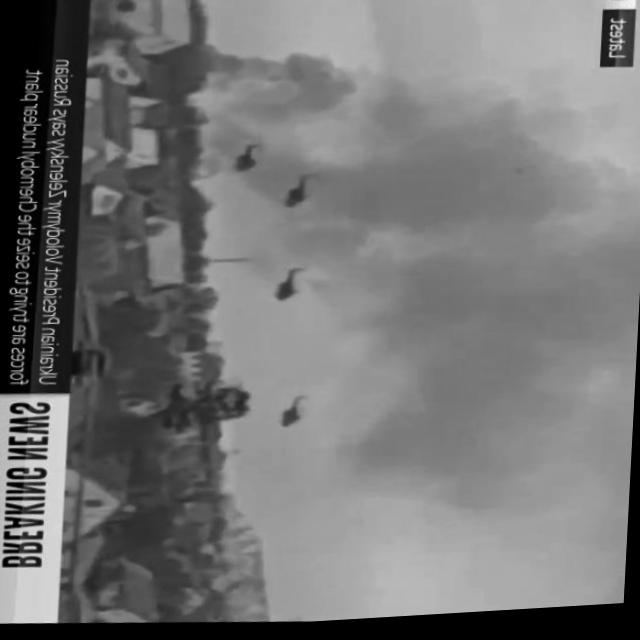helikopter: (252, 250, 327, 323), (259, 381, 334, 449), (269, 162, 329, 224)
